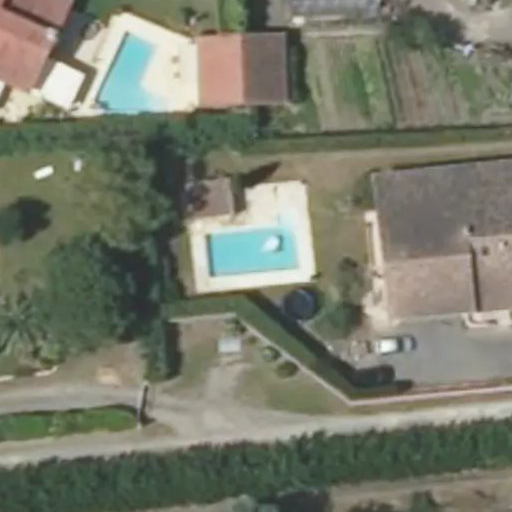pool: (206, 215, 304, 268)
